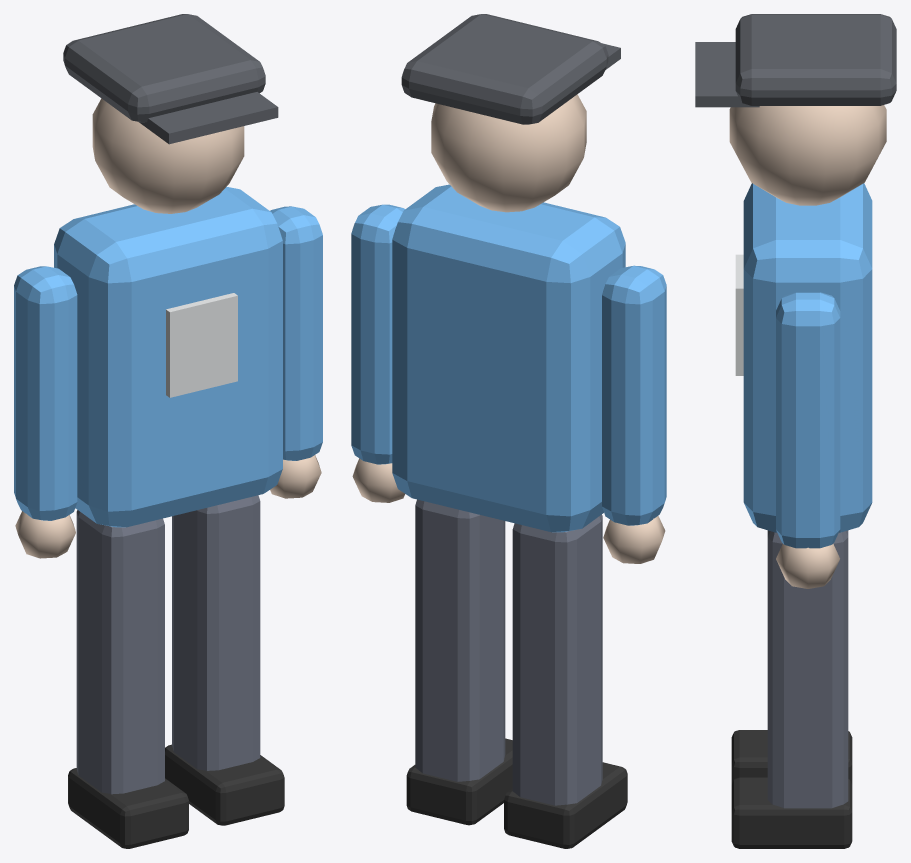
The model's file is person.fbx.
3 views of the same model, side by side, from view 1: azimuth 30°, elevation 25°; view 2: azimuth 150°, elevation 25°; view 3: azimuth 270°, elevation 25° (orthographic). The views are drawn at different scales.
Visible parts, largest first — view 1: person; view 2: person; view 3: person.
Part boxes in pixels (x1,y1,x2,y2): person: (14, 14, 322, 848); person: (351, 14, 666, 848); person: (695, 14, 896, 848).
Size of the model in its own units: 0.44 by 1.05 by 0.25.
